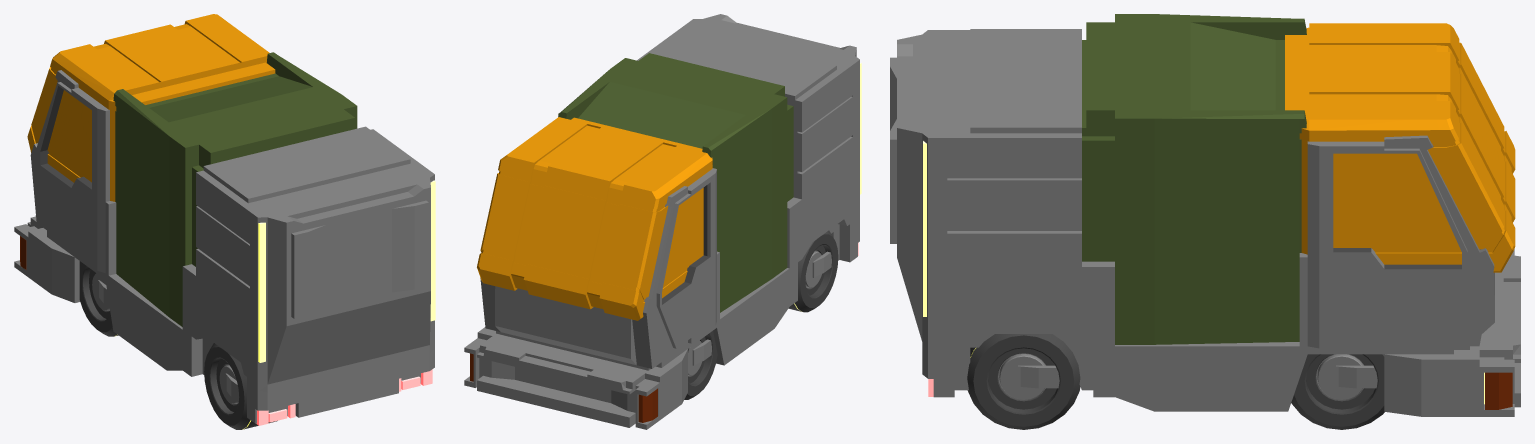
Rendered from TransportTruck.fbx.
The picture shows the model from 3 angles, left to right: view 1: azimuth 30°, elevation 25°; view 2: azimuth 150°, elevation 25°; view 3: azimuth 270°, elevation 25°; orthographic projection. The views are drawn at different scales.
Parts seen in each view (by area): view 1: TransportTruck_Base, Glass_Orange, Tire, Emissive_Orange, Emissive_Red; view 2: TransportTruck_Base, Glass_Orange, Tire, Glass_Red; view 3: TransportTruck_Base, Glass_Orange, Tire, Glass_Red, Emissive_Orange.
Boxes of the visible parts, bbox=[...] form: TransportTruck_Base: bbox=[14, 52, 434, 423]; Glass_Orange: bbox=[27, 14, 275, 201]; Tire: bbox=[79, 261, 277, 429]; Emissive_Orange: bbox=[258, 180, 435, 362]; Emissive_Red: bbox=[256, 369, 432, 425]; TransportTruck_Base: bbox=[464, 14, 859, 429]; Glass_Orange: bbox=[477, 117, 712, 320]; Tire: bbox=[684, 230, 838, 399]; Glass_Red: bbox=[470, 353, 657, 422]; TransportTruck_Base: bbox=[890, 14, 1520, 416]; Glass_Orange: bbox=[1285, 23, 1515, 272]; Tire: bbox=[967, 334, 1384, 429]; Glass_Red: bbox=[1485, 372, 1512, 409]; Emissive_Orange: bbox=[923, 141, 1484, 404].
Bounding box in the file's own units: 233 × 292 × 527.
